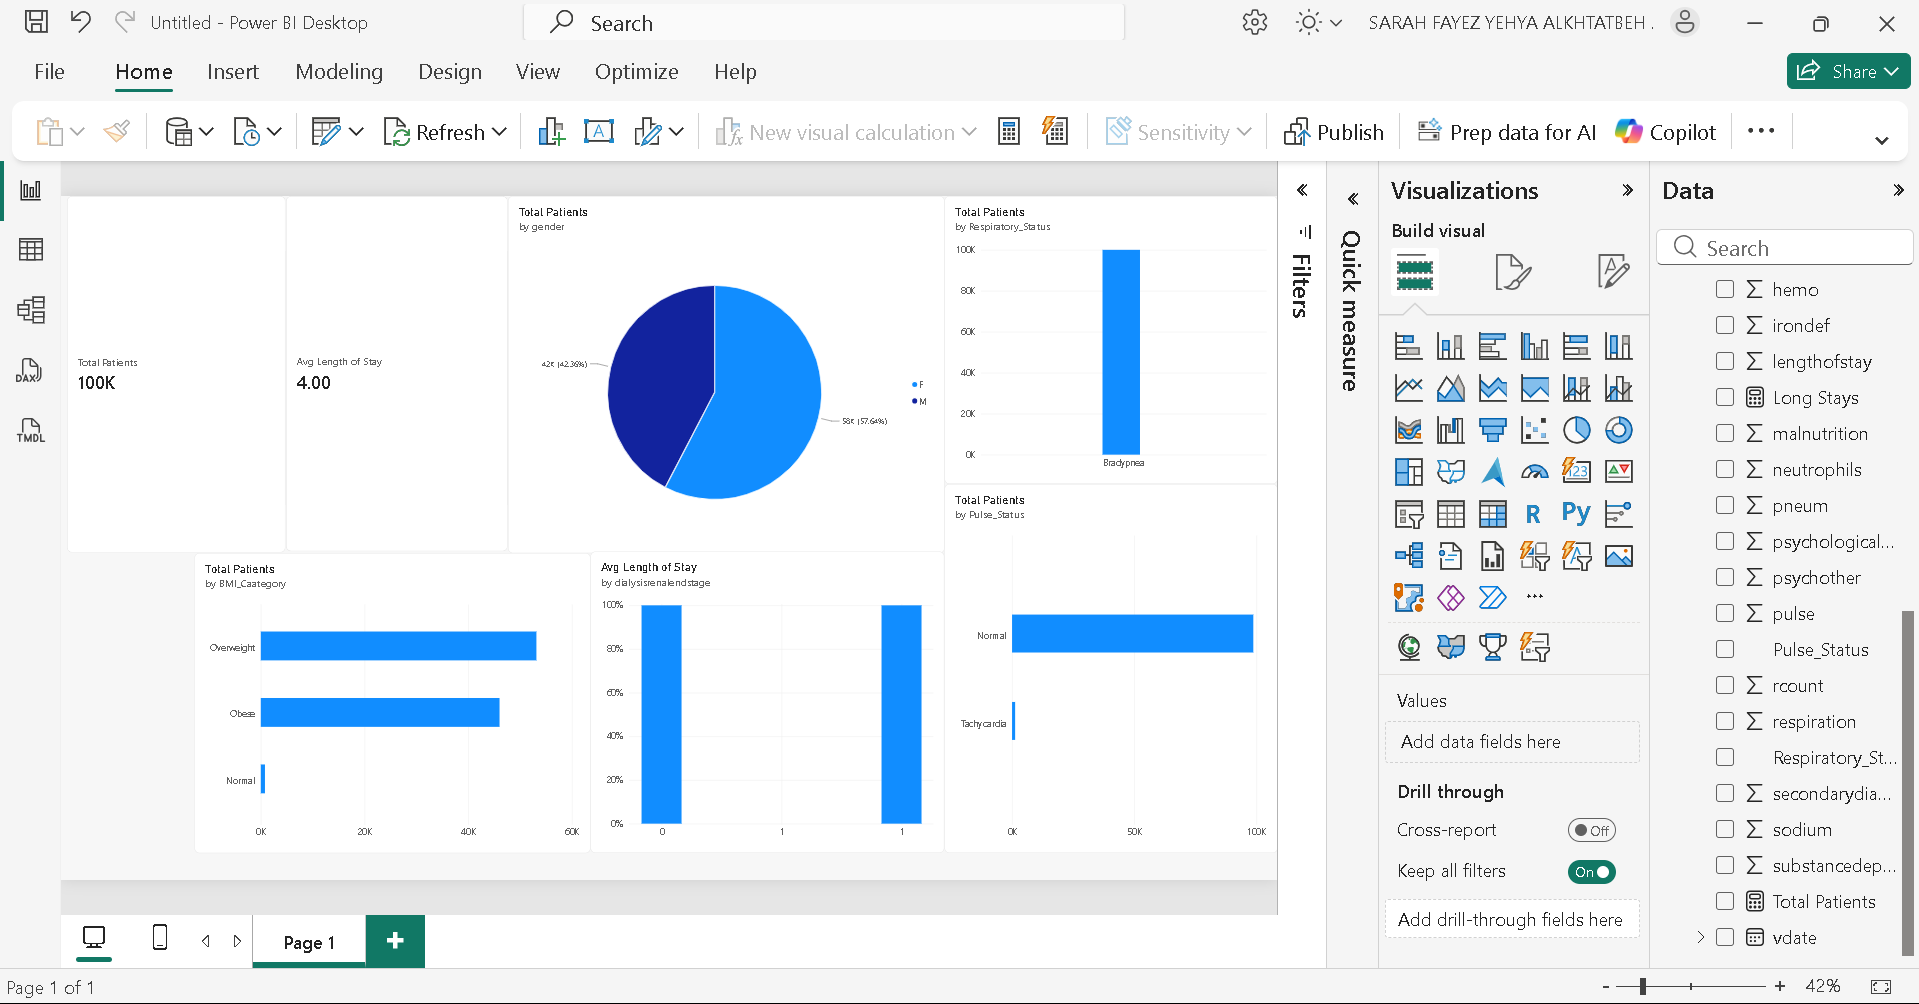

This screenshot's page, from the dashboard's own definition file:
{"tool":"powerbi","page":{"name":"Page 1","canvas":[1920,1080],"ordinal":0},"visuals":[{"type":"cardVisual","fields":{"Data":["LengthOfStay.Total Patients"]},"box":[9.5,0,345.8,563.7],"z":0},{"type":"cardVisual","fields":{"Data":["LengthOfStay.Avg Length of Stay"]},"box":[355.3,0,350.5,561.3],"z":1},{"type":"pieChart","fields":{"Category":["LengthOfStay.gender"],"Y":["LengthOfStay.Total Patients"]},"box":[705.8,0,689.2,563.7],"z":2},{"type":"barChart","fields":{"Category":["LengthOfStay.BMI_Caategory"],"Y":["LengthOfStay.Total Patients"]},"box":[210.8,563.7,625.3,473.7],"z":3},{"type":"hundredPercentStackedColumnChart","fields":{"Category":["LengthOfStay.dialysisrenalendstage"],"Y":["LengthOfStay.Avg Length of Stay"]},"box":[836.1,561.3,559,476.1],"z":4},{"type":"clusteredBarChart","fields":{"Category":["LengthOfStay.Pulse_Status"],"Y":["LengthOfStay.Total Patients"]},"box":[1395,454.7,525.8,582.6],"z":5},{"type":"clusteredColumnChart","fields":{"Category":["LengthOfStay.Respiratory_Status"],"Y":["LengthOfStay.Total Patients"]},"box":[1395,0,525.8,454.7],"z":6}]}

Visuals, with their boxes on the page's 1920x1080 design canvas (x1, y1, x2, y2). These are canvas units, not pixel positions in the 1919x1004 screenshot, which may show the page scaled, cropped or inside an application window:
cardVisual - LengthOfStay.Total Patients: crop(10, 0, 355, 564)
cardVisual - LengthOfStay.Avg Length of Stay: crop(355, 0, 706, 561)
pieChart - LengthOfStay.gender x LengthOfStay.Total Patients: crop(706, 0, 1395, 564)
barChart - LengthOfStay.BMI_Caategory x LengthOfStay.Total Patients: crop(211, 564, 836, 1037)
hundredPercentStackedColumnChart - LengthOfStay.dialysisrenalendstage x LengthOfStay.Avg Length of Stay: crop(836, 561, 1395, 1037)
clusteredBarChart - LengthOfStay.Pulse_Status x LengthOfStay.Total Patients: crop(1395, 455, 1921, 1037)
clusteredColumnChart - LengthOfStay.Respiratory_Status x LengthOfStay.Total Patients: crop(1395, 0, 1921, 455)
